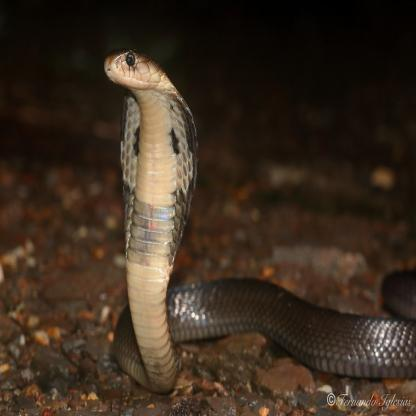Snake: (99, 46, 416, 385)
